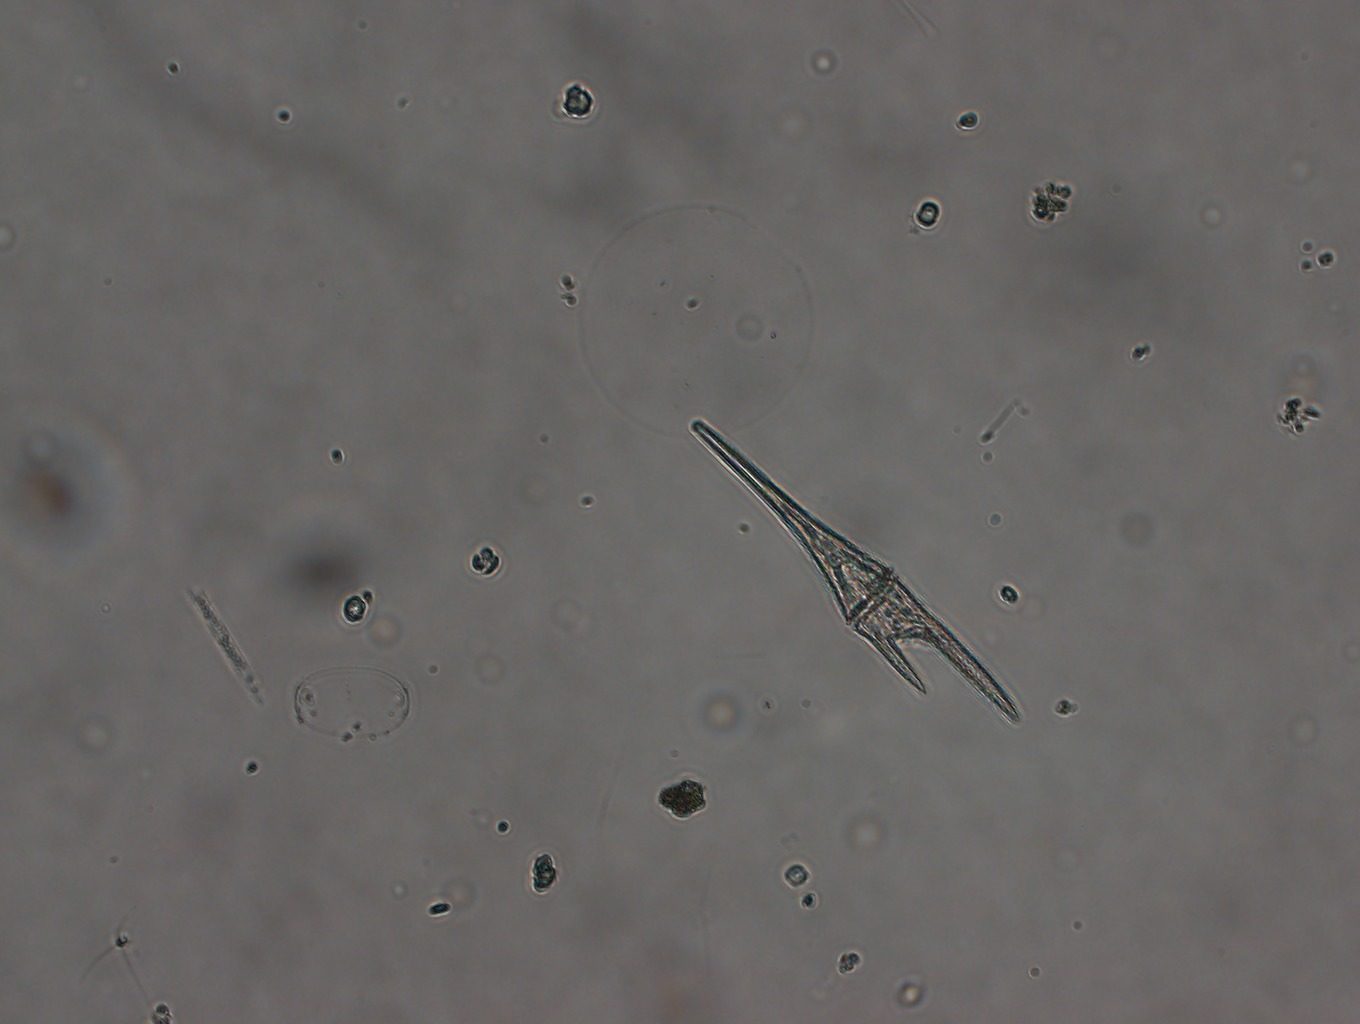ceratium furca: (682, 408, 1026, 735)
